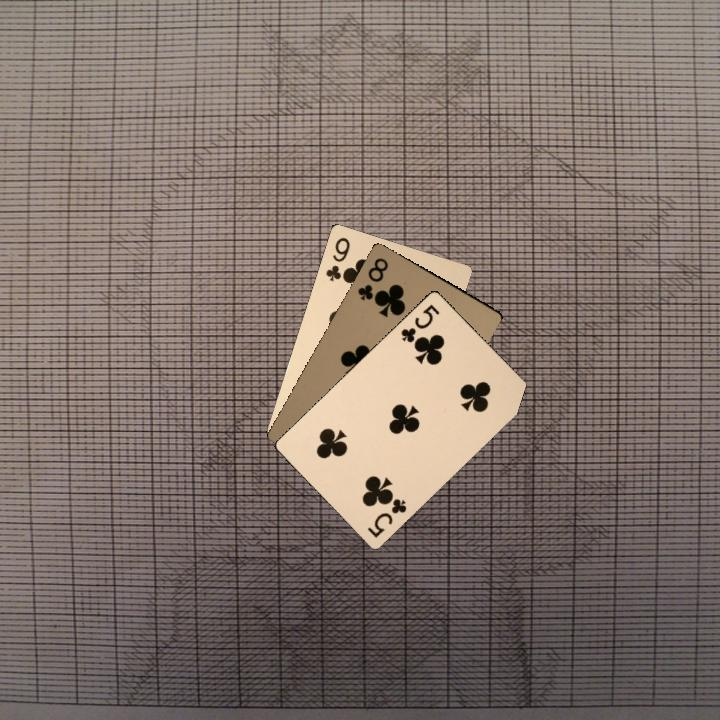5c: (363, 494, 409, 540), (397, 300, 442, 347)
8c: (354, 253, 391, 303)
9c: (322, 233, 353, 284)
